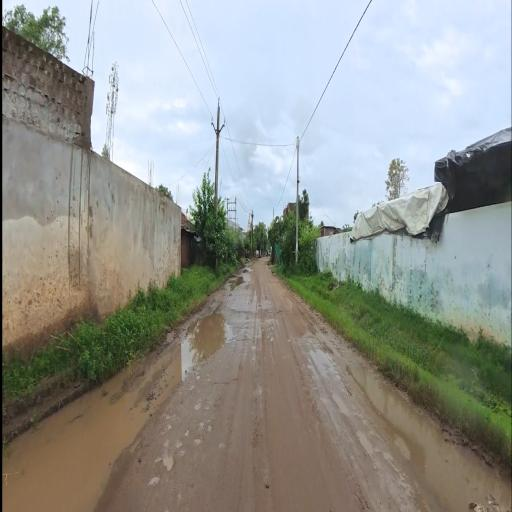pothole: (144, 407, 224, 500)
